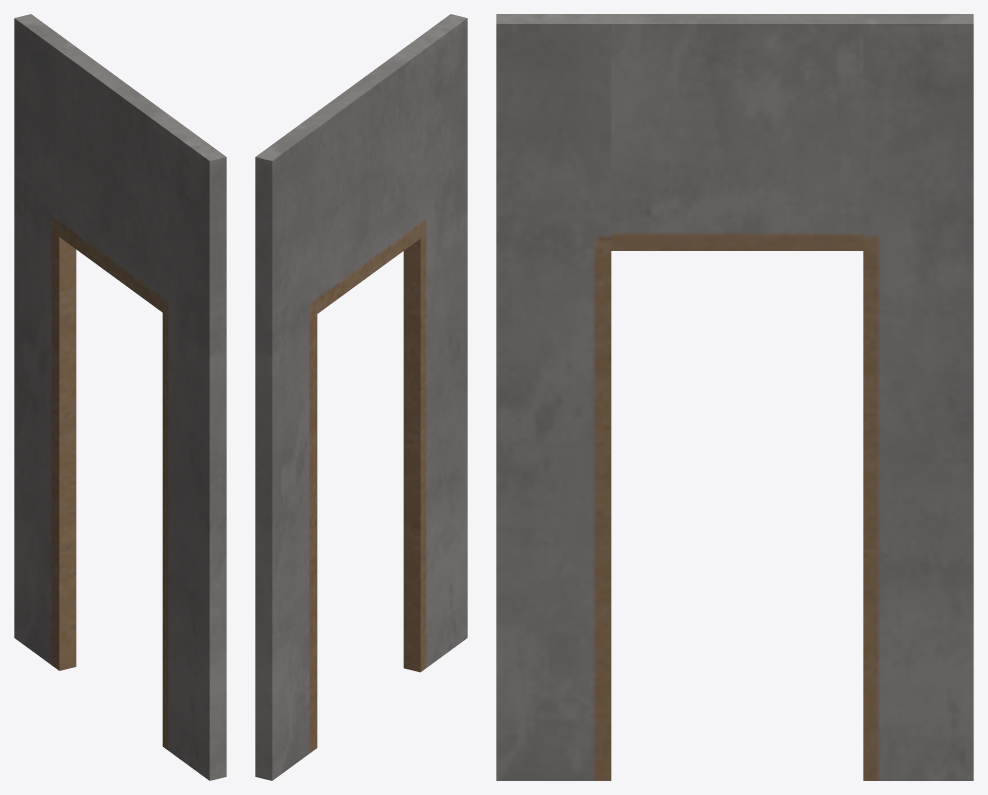
The model's file is door_wall.glb.
3 views of the same model, side by side, from view 1: azimuth 30°, elevation 25°; view 2: azimuth 150°, elevation 25°; view 3: azimuth 270°, elevation 25° (orthographic). The views are drawn at different scales.
Parts seen in each view (by area): view 1: pCube5; view 2: pCube5; view 3: pCube5.
Boxes of the visible parts, x1=… form: pCube5: x1=14, y1=14, x2=226, y2=780; pCube5: x1=255, y1=14, x2=467, y2=780; pCube5: x1=496, y1=14, x2=973, y2=780.
Bounding box in the file's own units: 0.1 × 3.5 × 2.
1 material, 1 textured.
